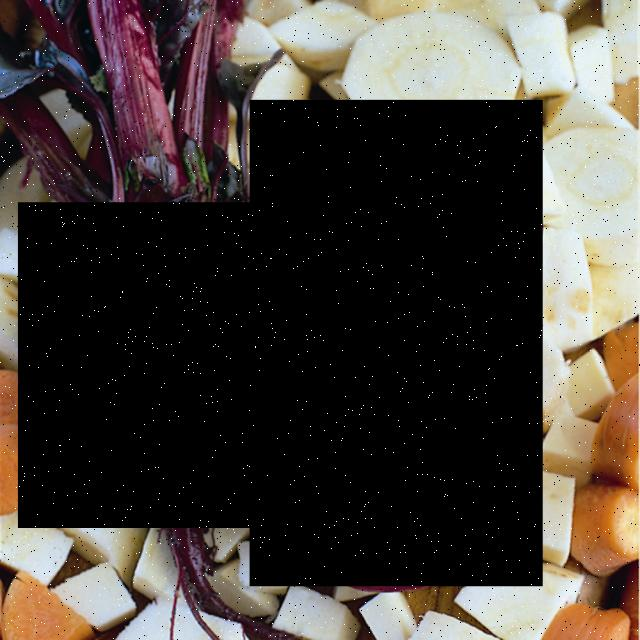Beetroot: (250, 100, 543, 586), (18, 202, 256, 528)
